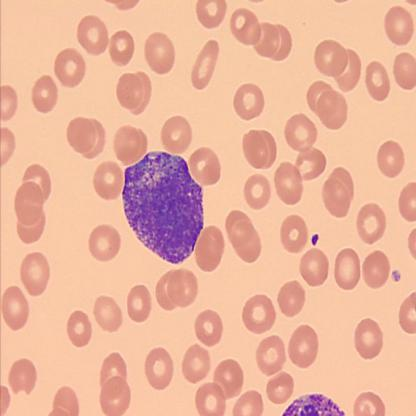Myelocyte: (122, 149, 204, 262)
